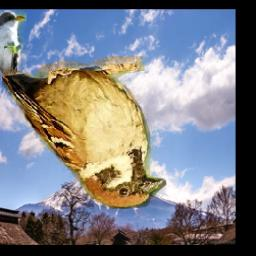Cuckoo: (0, 10, 25, 89)
Sparrow: (1, 56, 165, 209)
